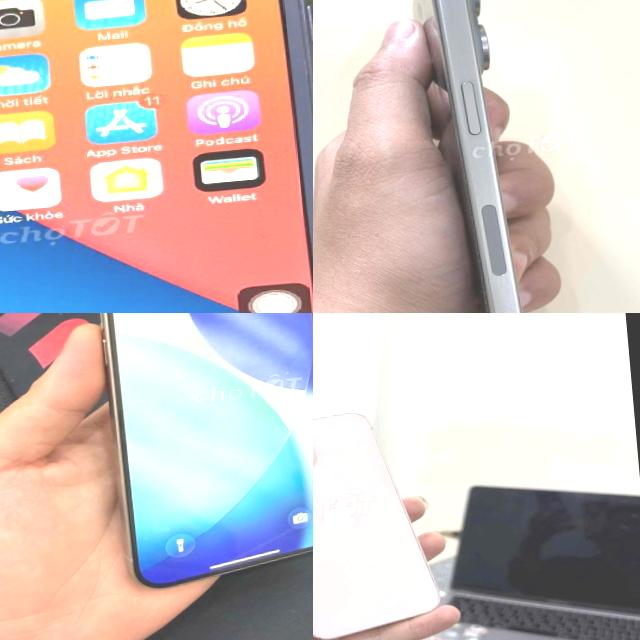gen_12_13: (313, 406, 446, 640)
gen_15: (69, 313, 313, 584), (375, 0, 568, 313)
gen_7_8: (0, 0, 313, 313)
